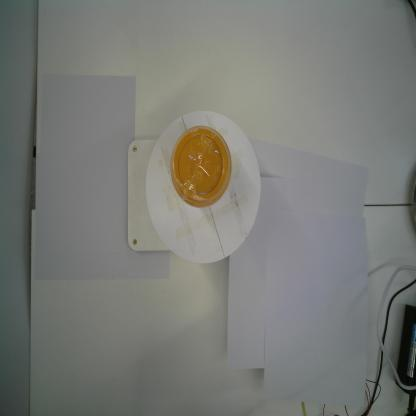Instant Drink: (170, 124, 232, 210)
